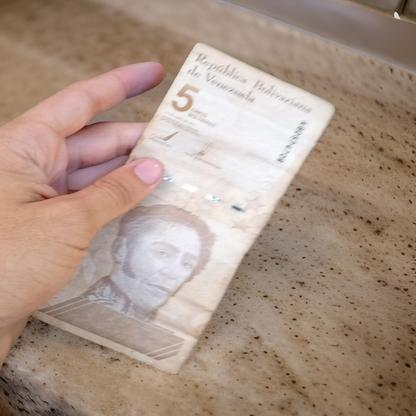five-front-vef: (29, 41, 336, 374)
